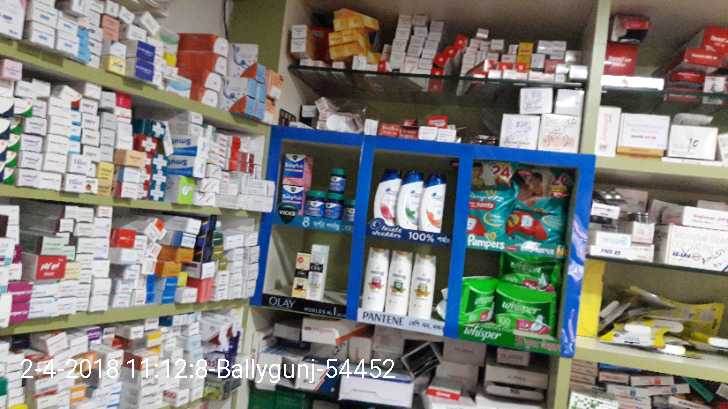vicks: (280, 150, 355, 222)
